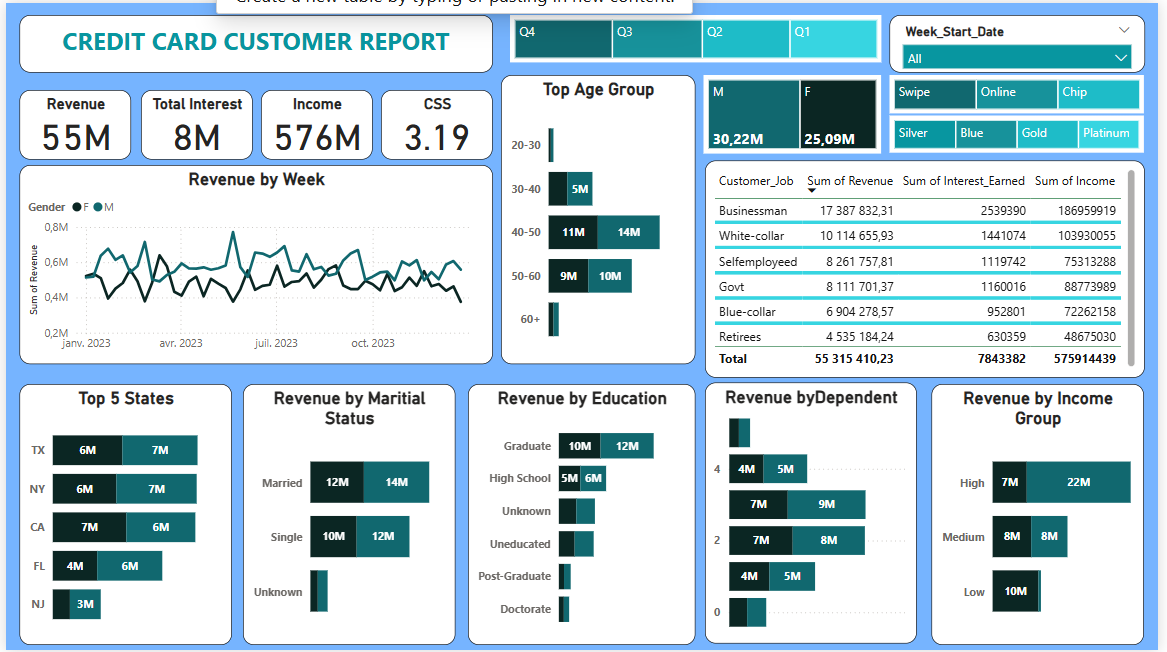

Layout of this report page (visuals, bound fields, positions):
{"tool":"powerbi","page":{"name":"CC Customer","canvas":[1280,720],"ordinal":1},"visuals":[{"type":"textbox","box":[15.7,12.9,525.7,64.3],"z":0},{"type":"barChart","title":"Revenue by  Income Group","fields":{"Y":["Sum(credit_card.Revenue)"],"Category":["customer.Income Group"],"Series":["customer.Gender"]},"box":[1028.6,422.9,235.7,290],"z":1000},{"type":"card","title":"Revenue","fields":{"Values":["Sum(credit_card.Revenue)"]},"box":[15.7,97.1,124.3,77.1],"z":2000},{"type":"card","title":"Income","fields":{"Values":["Sum(customer.Income)"]},"box":[283.3,97.1,124.3,77.1],"z":3000},{"type":"card","title":"Total Interest","fields":{"Values":["Sum(credit_card.Interest_Earned)"]},"box":[149.5,97.1,124.3,77.1],"z":4000},{"type":"card","title":"CSS","fields":{"Values":["Avg(customer.Cust_Satisfaction_Score)"]},"box":[417.1,97.1,124.3,77.1],"z":5000},{"type":"slicer","fields":{"Values":["credit_card.Week_Start_Date"]},"box":[981.4,12.9,284.3,64.3],"z":6000},{"type":"treemap","fields":{"Group":["credit_card.Qtr"],"Values":["Avg(credit_card.Client_Num)"]},"box":[560,12.9,412.9,52.9],"z":7000},{"type":"treemap","fields":{"Values":["Avg(credit_card.Client_Num)"],"Group":["credit_card.Card_Category"]},"box":[981.4,125.7,282.9,41.4],"z":8000},{"type":"treemap","fields":{"Values":["Avg(credit_card.Client_Num)"],"Group":["credit_card.Use Chip"]},"box":[981.4,80,282.9,42.9],"z":9000},{"type":"tableEx","fields":{"Values":["customer.Customer_Job","Sum(credit_card.Revenue)","Sum(credit_card.Interest_Earned)","Sum(customer.Income)"]},"box":[777.1,174.3,488.6,241.4],"z":10000},{"type":"lineChart","title":"Revenue by Week","fields":{"Category":["credit_card.Week_Start_Date.Variation.Date Hierarchy.Year","credit_card.Week_Start_Date.Variation.Date Hierarchy.Quarter","credit_card.Week_Start_Date.Variation.Date Hierarchy.Month","credit_card.Week_Start_Date.Variation.Date Hierarchy.Day"],"Y":["Sum(credit_card.Revenue)"],"Series":["customer.Gender"]},"box":[15.7,180,525.7,221.4],"z":11000},{"type":"treemap","fields":{"Values":["Sum(credit_card.Revenue)"],"Group":["customer.Gender"]},"box":[775.7,80,197.1,87.1],"z":12000},{"type":"barChart","title":"Top Age Group","fields":{"Y":["Sum(credit_card.Revenue)"],"Category":["customer.Age Group"],"Series":["customer.Gender"]},"box":[550,80,215.7,321.4],"z":13000},{"type":"barChart","title":"Revenue byDependent","fields":{"Y":["Sum(credit_card.Revenue)"],"Category":["customer.Dependent_Count"],"Series":["customer.Gender"]},"box":[776.3,422.4,235.5,289.7],"z":14000},{"type":"barChart","title":"Revenue by  Education","fields":{"Y":["Sum(credit_card.Revenue)"],"Category":["customer.Education_Level"],"Series":["customer.Gender"]},"box":[512.9,422.9,252.9,290],"z":15000},{"type":"barChart","title":"Top 5 States","fields":{"Y":["Sum(credit_card.Revenue)"],"Category":["customer.state_cd"],"Series":["customer.Gender"]},"box":[15.7,422.9,235.7,290],"z":16000},{"type":"barChart","title":"Revenue by Maritial Status","fields":{"Y":["Sum(credit_card.Revenue)"],"Category":["customer.Marital_Status"],"Series":["customer.Gender"]},"box":[262.9,422.9,235.7,290],"z":17000}]}

Visuals, with their boxes in screenshot pixels (x1, y1, x2, y2):
textbox: crop(20, 15, 491, 72)
"Revenue by  Income Group" barChart: crop(927, 382, 1138, 641)
"Revenue" card: crop(20, 90, 131, 159)
"Income" card: crop(260, 90, 371, 159)
"Total Interest" card: crop(140, 90, 251, 159)
"CSS" card: crop(379, 90, 491, 159)
slicer - credit_card.Week_Start_Date: crop(884, 15, 1139, 72)
treemap - credit_card.Qtr x Avg(credit_card.Client_Num): crop(507, 15, 877, 62)
treemap - Avg(credit_card.Client_Num) x credit_card.Card_Category: crop(884, 116, 1138, 153)
treemap - Avg(credit_card.Client_Num) x credit_card.Use Chip: crop(884, 75, 1138, 113)
tableEx - customer.Customer_Job x Sum(credit_card.Revenue): crop(702, 159, 1139, 375)
"Revenue by Week" lineChart: crop(20, 164, 491, 362)
treemap - Sum(credit_card.Revenue) x customer.Gender: crop(700, 75, 877, 153)
"Top Age Group" barChart: crop(498, 75, 691, 362)
"Revenue byDependent" barChart: crop(701, 381, 912, 640)
"Revenue by  Education" barChart: crop(465, 382, 691, 641)
"Top 5 States" barChart: crop(20, 382, 231, 641)
"Revenue by Maritial Status" barChart: crop(241, 382, 452, 641)
